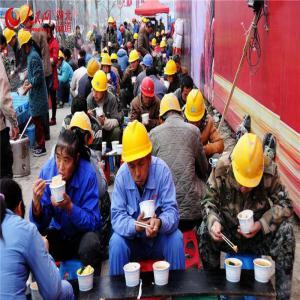blue: (143, 53, 154, 72)
none: (2, 176, 28, 227), (55, 130, 80, 180), (72, 95, 88, 120), (181, 76, 195, 99), (42, 22, 53, 40), (174, 56, 182, 74), (63, 48, 71, 61), (146, 21, 153, 34), (80, 49, 87, 60), (76, 26, 81, 34)
red: (141, 78, 157, 108), (127, 42, 133, 52), (121, 26, 125, 33), (133, 19, 137, 24)
yellow: (232, 133, 267, 196), (121, 123, 155, 187), (185, 89, 207, 131), (71, 111, 95, 147), (160, 93, 183, 127), (92, 71, 109, 104), (18, 28, 34, 55), (20, 5, 35, 29), (165, 59, 178, 84), (5, 27, 17, 49), (129, 51, 141, 71), (102, 56, 112, 75), (56, 51, 64, 68), (110, 52, 119, 65), (108, 17, 114, 31), (88, 32, 95, 43), (152, 38, 158, 50), (161, 42, 167, 53)
